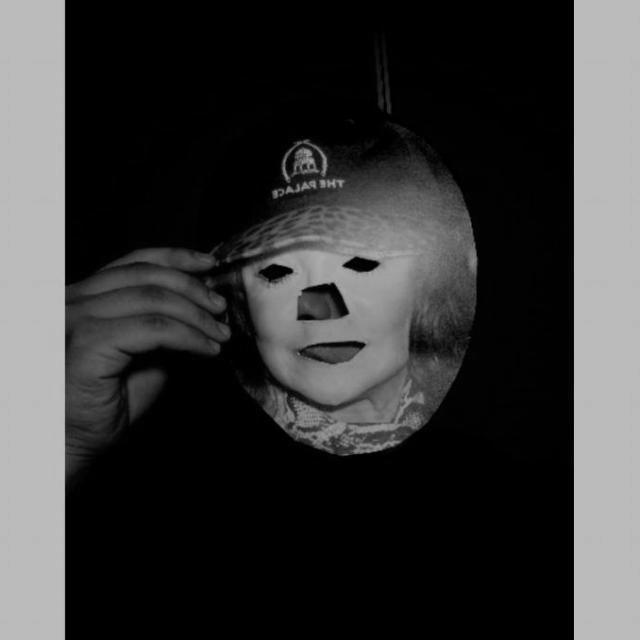fake: (190, 113, 482, 459)
